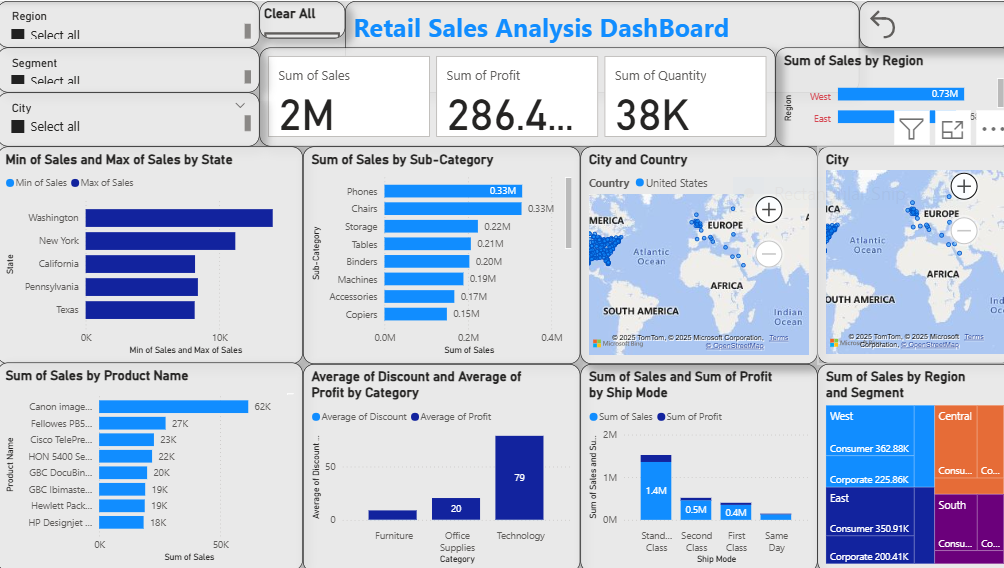

Layout of this report page (visuals, bound fields, positions):
{"tool":"powerbi","page":{"name":"Duplicate of Page 1","canvas":[1280,720],"ordinal":1},"visuals":[{"type":"textbox","box":[438.4,0,648.2,115.3],"z":0},{"type":"barChart","fields":{"Category":["Superstore.Region"],"Y":["Sum(Superstore.Sales)"]},"box":[980.8,58.6,298.6,124.7],"z":1000},{"type":"cardVisual","fields":{"Data":["Sum(Superstore.Sales)","Sum(Superstore.Profit)","Sum(Superstore.Quantity)"]},"box":[330.7,58.6,650.1,124.7],"z":2000},{"type":"slicer","fields":{"Values":["Superstore.Region"]},"box":[0,0,330.7,58.6],"z":3000},{"type":"slicer","fields":{"Values":["Superstore.Segment"]},"box":[0,58.6,330.7,56.7],"z":4000},{"type":"slicer","fields":{"Values":["Superstore.City"]},"box":[0,115.3,330.7,68],"z":5000},{"type":"actionButton","title":"Clear All","box":[330.7,0,107.7,47.2],"z":6000},{"type":"actionButton","box":[1086.6,0,192.8,58.6],"z":7000},{"type":"barChart","fields":{"Category":["Superstore.State"],"Y":["Min(Superstore.Sales)","Max(Superstore.Sales)1"]},"box":[0,183.3,385.5,274],"z":8000},{"type":"barChart","fields":{"Category":["Superstore.Product Name"],"Y":["Sum(Superstore.Sales)"]},"box":[0,455.4,385.5,262.7],"z":9000},{"type":"barChart","fields":{"Category":["Superstore.Sub-Category"],"Y":["Sum(Superstore.Sales)"]},"box":[385.5,183.3,349.6,274],"z":10000},{"type":"columnChart","fields":{"Category":["Superstore.Category"],"Y":["Avg(Superstore.Discount)","Avg(Superstore.Profit)"]},"box":[385.5,457.3,349.6,262.7],"z":11000},{"type":"columnChart","fields":{"Category":["Superstore.Ship Mode"],"Y":["Sum(Superstore.Sales)","Sum(Superstore.Profit)"]},"box":[735.1,457.3,298.6,262.7],"z":12000},{"type":"map","fields":{"Category":["Superstore.City"],"Series":["Superstore.Country"]},"box":[735.1,183.3,298.6,274],"z":13000},{"type":"map","fields":{"Category":["Superstore.City"]},"box":[1034,184,246,273],"z":14000},{"type":"treemap","fields":{"Values":["Sum(Superstore.Sales)"],"Group":["Superstore.Region"],"Details":["Superstore.Segment"]},"box":[1034,457,246,263],"z":15000}]}

Visuals, with their boxes in screenshot pixels (x1, y1, x2, y2), scaled from the page's 1280x720 canvas onto the 1004x568 screenshot:
textbox: [left=344, top=0, right=852, bottom=91]
barChart - Superstore.Region x Sum(Superstore.Sales): [left=769, top=46, right=1003, bottom=145]
cardVisual - Sum(Superstore.Sales) x Sum(Superstore.Profit): [left=259, top=46, right=769, bottom=145]
slicer - Superstore.Region: [left=0, top=0, right=259, bottom=46]
slicer - Superstore.Segment: [left=0, top=46, right=259, bottom=91]
slicer - Superstore.City: [left=0, top=91, right=259, bottom=145]
"Clear All" actionButton: [left=259, top=0, right=344, bottom=37]
actionButton: [left=852, top=0, right=1003, bottom=46]
barChart - Superstore.State x Min(Superstore.Sales): [left=0, top=145, right=302, bottom=361]
barChart - Superstore.Product Name x Sum(Superstore.Sales): [left=0, top=359, right=302, bottom=567]
barChart - Superstore.Sub-Category x Sum(Superstore.Sales): [left=302, top=145, right=577, bottom=361]
columnChart - Superstore.Category x Avg(Superstore.Discount): [left=302, top=361, right=577, bottom=567]
columnChart - Superstore.Ship Mode x Sum(Superstore.Sales): [left=577, top=361, right=811, bottom=567]
map - Superstore.City x Superstore.Country: [left=577, top=145, right=811, bottom=361]
map - Superstore.City: [left=811, top=145, right=1003, bottom=361]
treemap - Sum(Superstore.Sales) x Superstore.Region: [left=811, top=361, right=1003, bottom=567]
